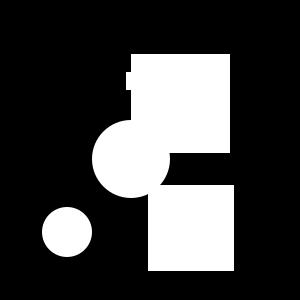circle: (131, 54, 230, 153), (148, 185, 234, 271), (126, 72, 144, 90)
rectangle: (92, 120, 170, 198), (42, 207, 92, 257)
